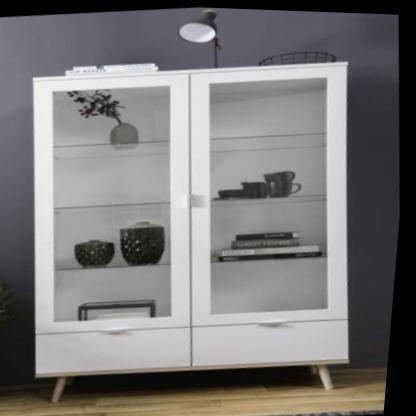Cupboard: (11, 41, 380, 391)
